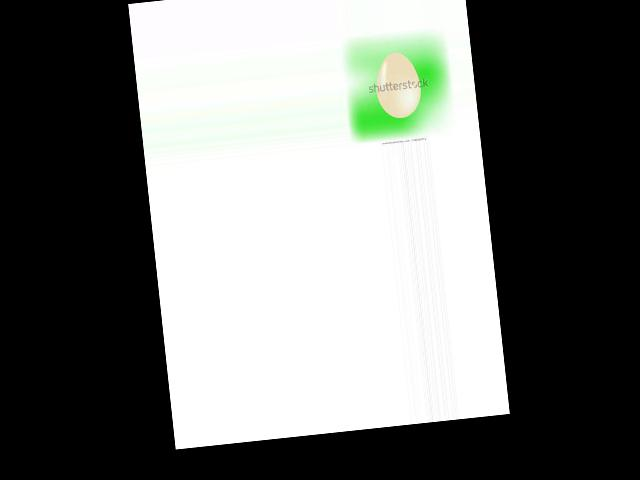egg: (373, 50, 424, 119)
